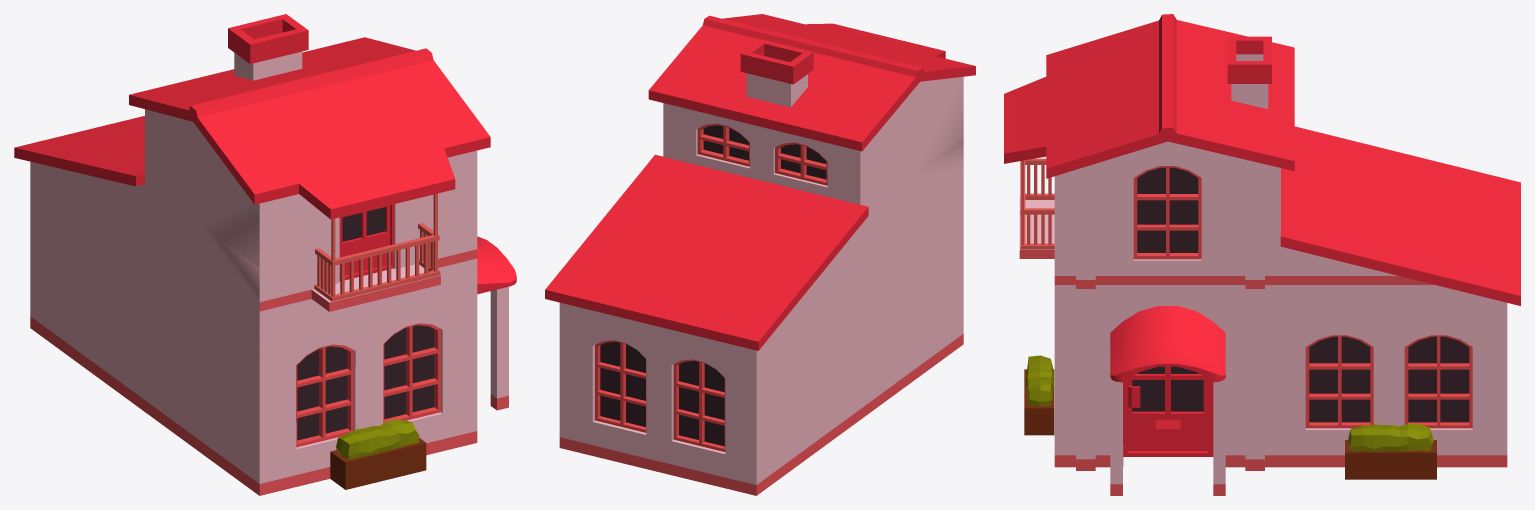
The model's file is PublicBuilding_6.glb.
3 views of the same model, side by side, from view 1: azimuth 30°, elevation 25°; view 2: azimuth 150°, elevation 25°; view 3: azimuth 270°, elevation 25° (orthographic). The views are drawn at different scales.
Parts seen in each view (by area): view 1: PublicBuilding_6; view 2: PublicBuilding_6; view 3: PublicBuilding_6.
Part boxes in pixels (left/top/right/bottom): PublicBuilding_6: left=14, top=14, right=516, bottom=495; PublicBuilding_6: left=545, top=14, right=975, bottom=495; PublicBuilding_6: left=1004, top=14, right=1520, bottom=495.
Bounding box in the file's own units: 0.0274 × 0.0323 × 0.0416.
1 material, 1 textured.
